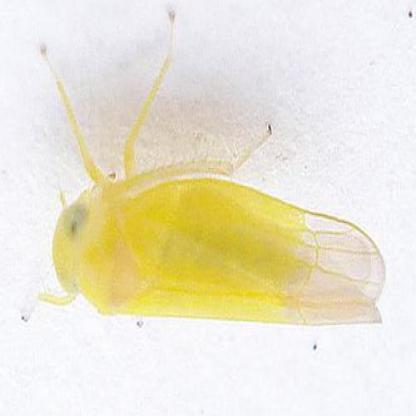green-leafhopper: (39, 166, 390, 334)
